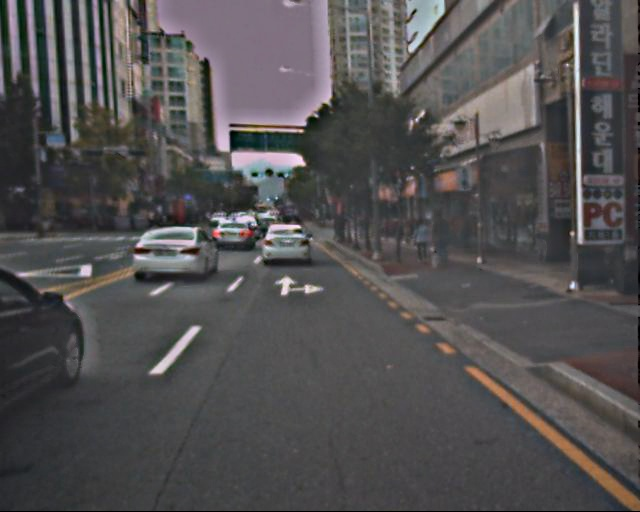person: (427, 205, 452, 266), (413, 215, 433, 263)
